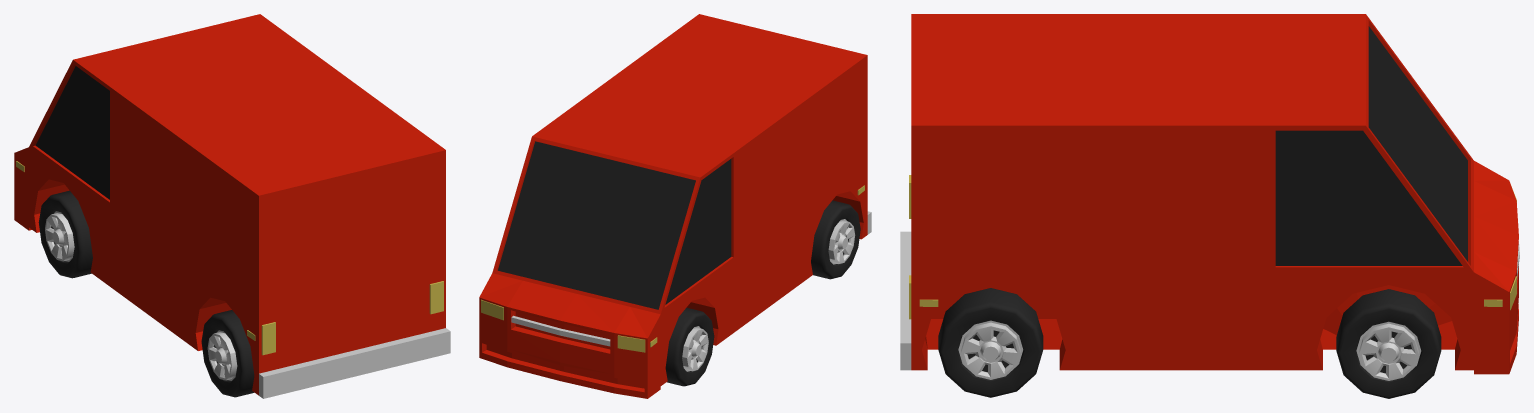
File: van0.dae
3 views of the same model, side by side, from view 1: azimuth 30°, elevation 25°; view 2: azimuth 150°, elevation 25°; view 3: azimuth 270°, elevation 25° (orthographic). The views are drawn at different scales.
Parts seen in each view (by area): view 1: Cube_006, Cylinder_034, Cylinder_033; view 2: Cube_006, Cylinder_033, Cylinder_034; view 3: Cube_006, Cylinder_035, Cylinder_032.
Boxes of the visible parts, x1,y1,x2,y2 form: Cube_006: (14,14,450,398); Cylinder_034: (38,190,92,278); Cylinder_033: (201,310,254,397); Cube_006: (479,14,871,398); Cylinder_033: (811,200,860,279); Cylinder_034: (665,307,714,386); Cube_006: (900,14,1519,374); Cylinder_035: (1336,289,1441,398); Cylinder_032: (938,288,1043,397).
Size of the model in its own units: 3.98 by 8.61 by 4.17.
